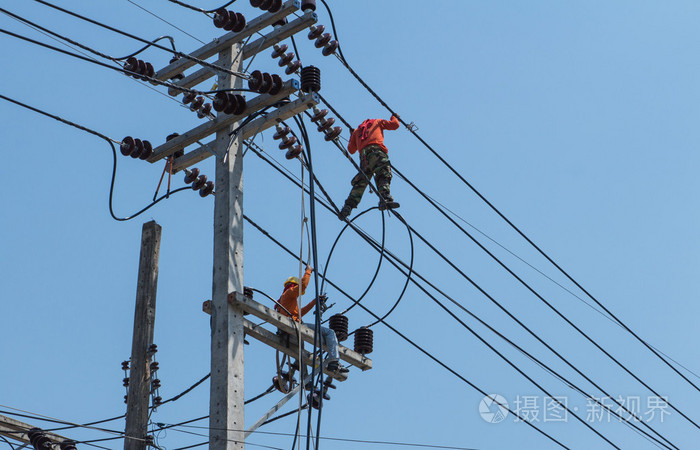insulator: (306, 24, 340, 58), (270, 128, 305, 161), (246, 67, 285, 96), (310, 108, 342, 142), (267, 44, 302, 72), (181, 170, 215, 198), (120, 135, 155, 162), (308, 375, 334, 411), (181, 90, 211, 119), (214, 7, 248, 32), (215, 91, 249, 115), (274, 362, 298, 395), (124, 57, 154, 83), (253, 1, 285, 13)
